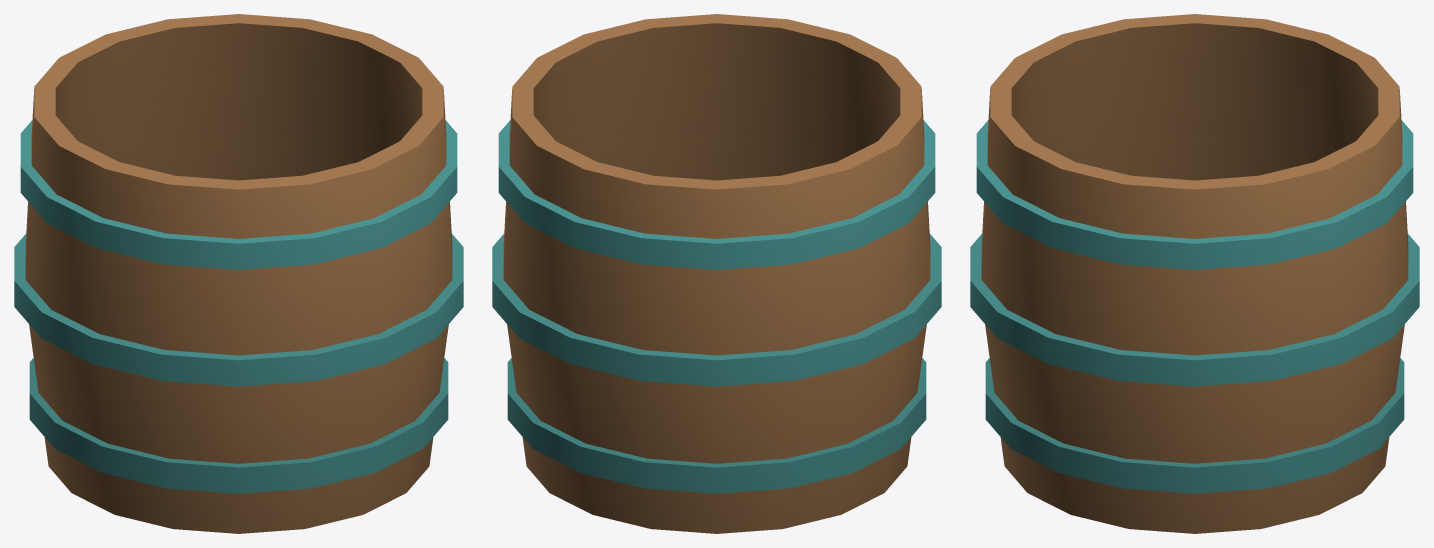
The model's file is ProduceBin_Round_01.glb.
The picture shows the model from 3 angles, left to right: view 1: azimuth 30°, elevation 25°; view 2: azimuth 150°, elevation 25°; view 3: azimuth 270°, elevation 25°; orthographic projection.
Parts seen in each view (by area): view 1: SM_ProduceBin_Round_01; view 2: SM_ProduceBin_Round_01; view 3: SM_ProduceBin_Round_01.
Boxes of the visible parts, x1,y1,x2,y2 form: SM_ProduceBin_Round_01: (14, 14, 463, 533); SM_ProduceBin_Round_01: (492, 14, 941, 533); SM_ProduceBin_Round_01: (970, 14, 1419, 533).
Bounding box in the file's own units: 0.944 × 0.8 × 0.9297.
1 material, 1 textured.
